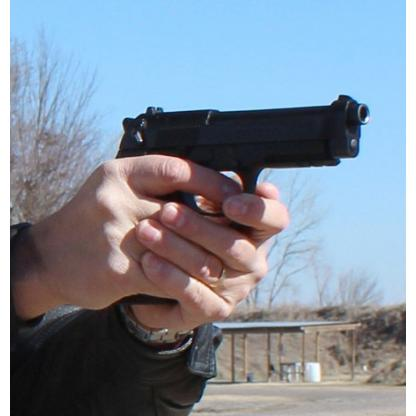gun: (112, 92, 368, 308)
